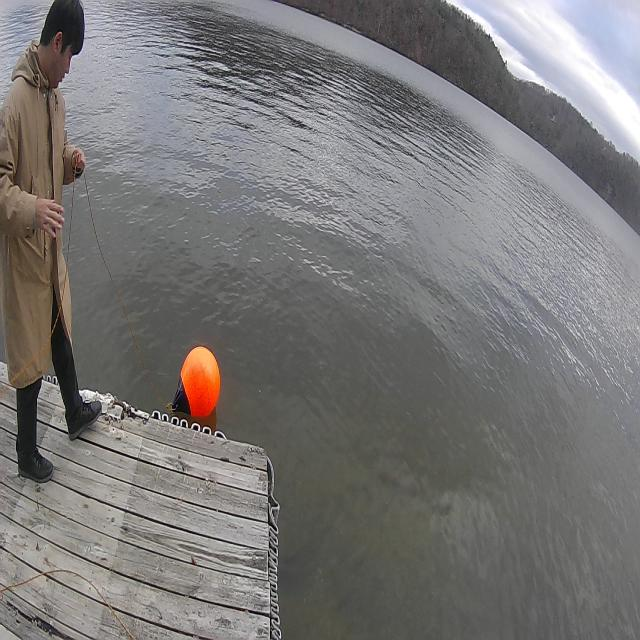Buoy: (168, 339, 224, 428)
